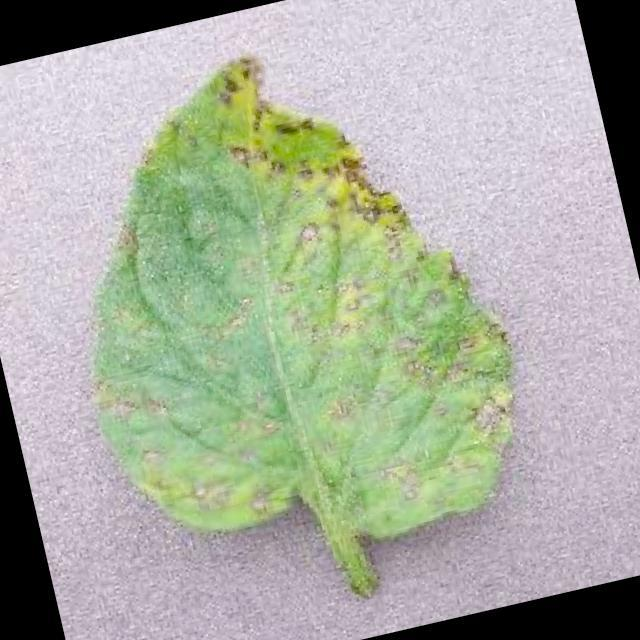Tomato Septoria spot leaf: (23, 11, 546, 596)
